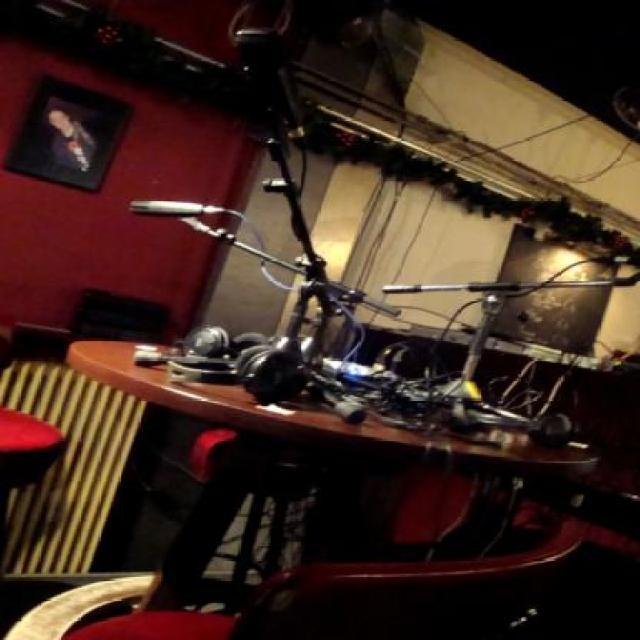earphone: (149, 345, 300, 404), (179, 320, 285, 371)
